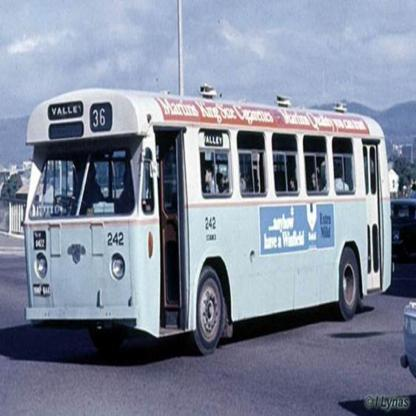Bus: (21, 84, 391, 354)
